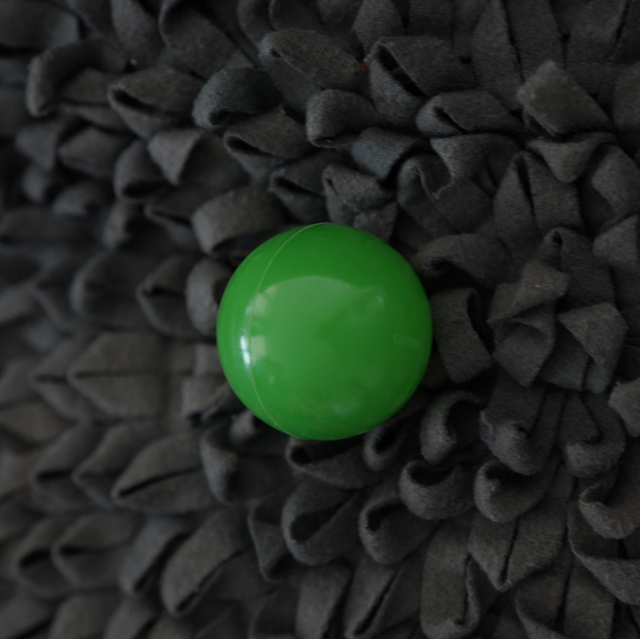Ball: (217, 223, 436, 438)
